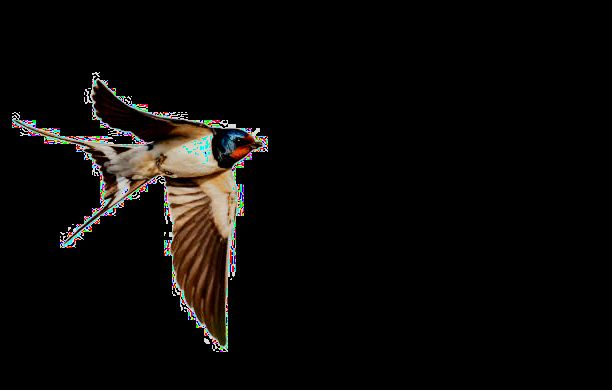Bird: (13, 69, 266, 354)
